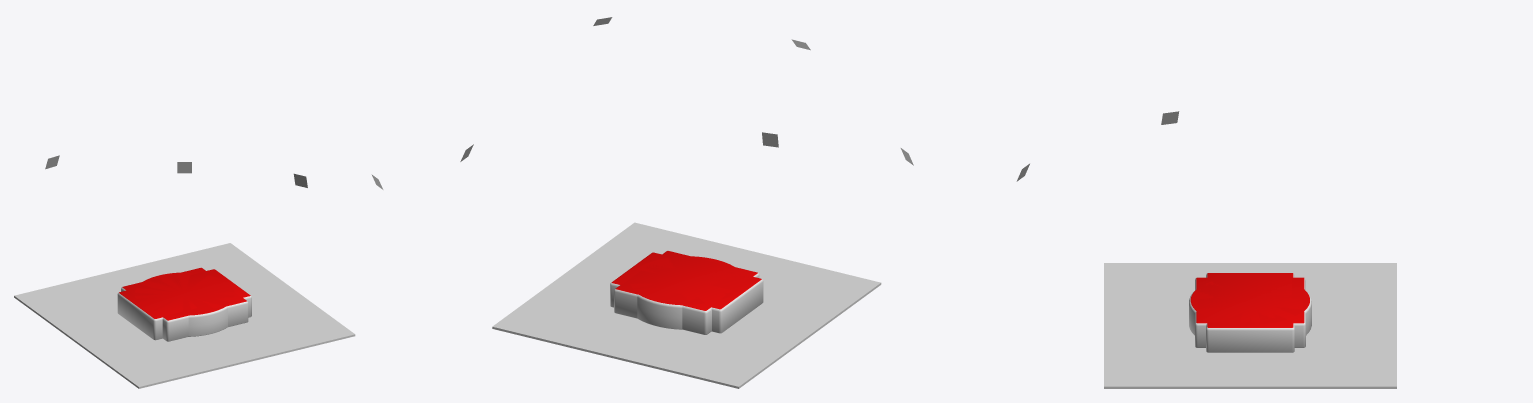
The picture shows the model from 3 angles, left to right: view 1: azimuth 30°, elevation 25°; view 2: azimuth 150°, elevation 25°; view 3: azimuth 270°, elevation 25°; orthographic projection. The views are drawn at different scales.
Visible parts, largest first — view 1: Table, Cake_round-Mat.3, Cake_sheet-Mat.3, Cake_sheet-Mat.4, Cake_square-Mat.4, Cake_square-Mat.3, Cake_round-Mat.4; view 2: Table, Cake_square-Mat.3, Cake_round-Mat.3, Cake_sheet-Mat.4, Cake_square-Mat.4, Cake_round-Mat.4, Cake_sheet-Mat.3; view 3: Table, Cake_square-Mat.3, Cake_sheet-Mat.3, Cake_sheet-Mat.4, Cake_round-Mat.3, Cake_square-Mat.4.
Part boxes in pixels (x1,y1,x2,y2): Table: [14, 243, 355, 388]; Cake_round-Mat.3: [135, 272, 234, 315]; Cake_sheet-Mat.3: [119, 269, 250, 318]; Cake_sheet-Mat.4: [117, 292, 251, 340]; Cake_square-Mat.4: [121, 287, 248, 341]; Cake_square-Mat.3: [122, 267, 246, 320]; Cake_round-Mat.4: [188, 306, 227, 336]; Table: [492, 222, 881, 388]; Cake_square-Mat.3: [615, 251, 757, 310]; Cake_round-Mat.3: [630, 256, 743, 305]; Cake_sheet-Mat.4: [610, 279, 763, 333]; Cake_square-Mat.4: [614, 273, 759, 334]; Cake_round-Mat.4: [637, 265, 732, 329]; Cake_sheet-Mat.3: [611, 252, 761, 309]; Table: [1104, 263, 1396, 388]; Cake_square-Mat.3: [1196, 277, 1304, 323]; Cake_sheet-Mat.3: [1207, 273, 1293, 327]; Cake_sheet-Mat.4: [1206, 273, 1294, 352]; Cake_round-Mat.3: [1190, 281, 1309, 324]; Cake_square-Mat.4: [1195, 278, 1305, 347].
Bounding box in the file's own units: 948 × 616 × 982.
